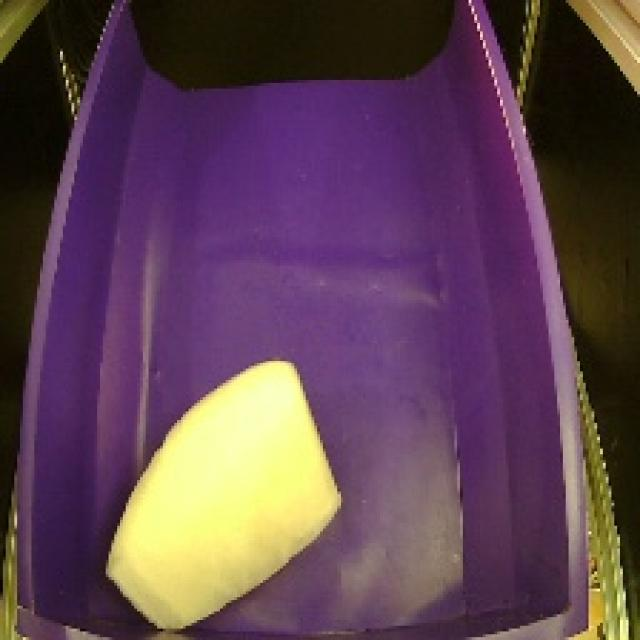white_radish: (96, 346, 351, 634)
